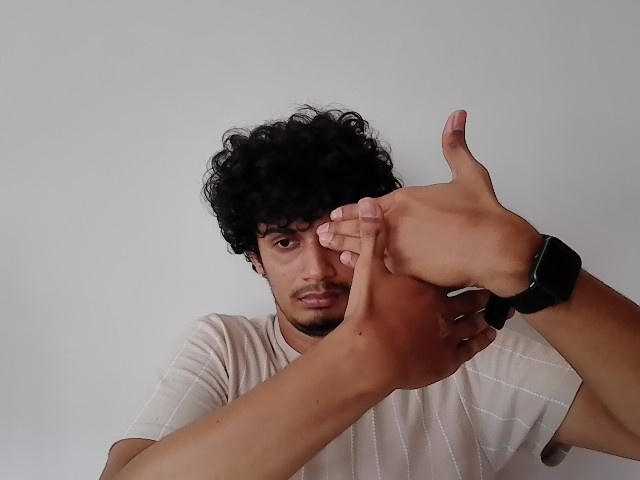work: (320, 107, 516, 382)
